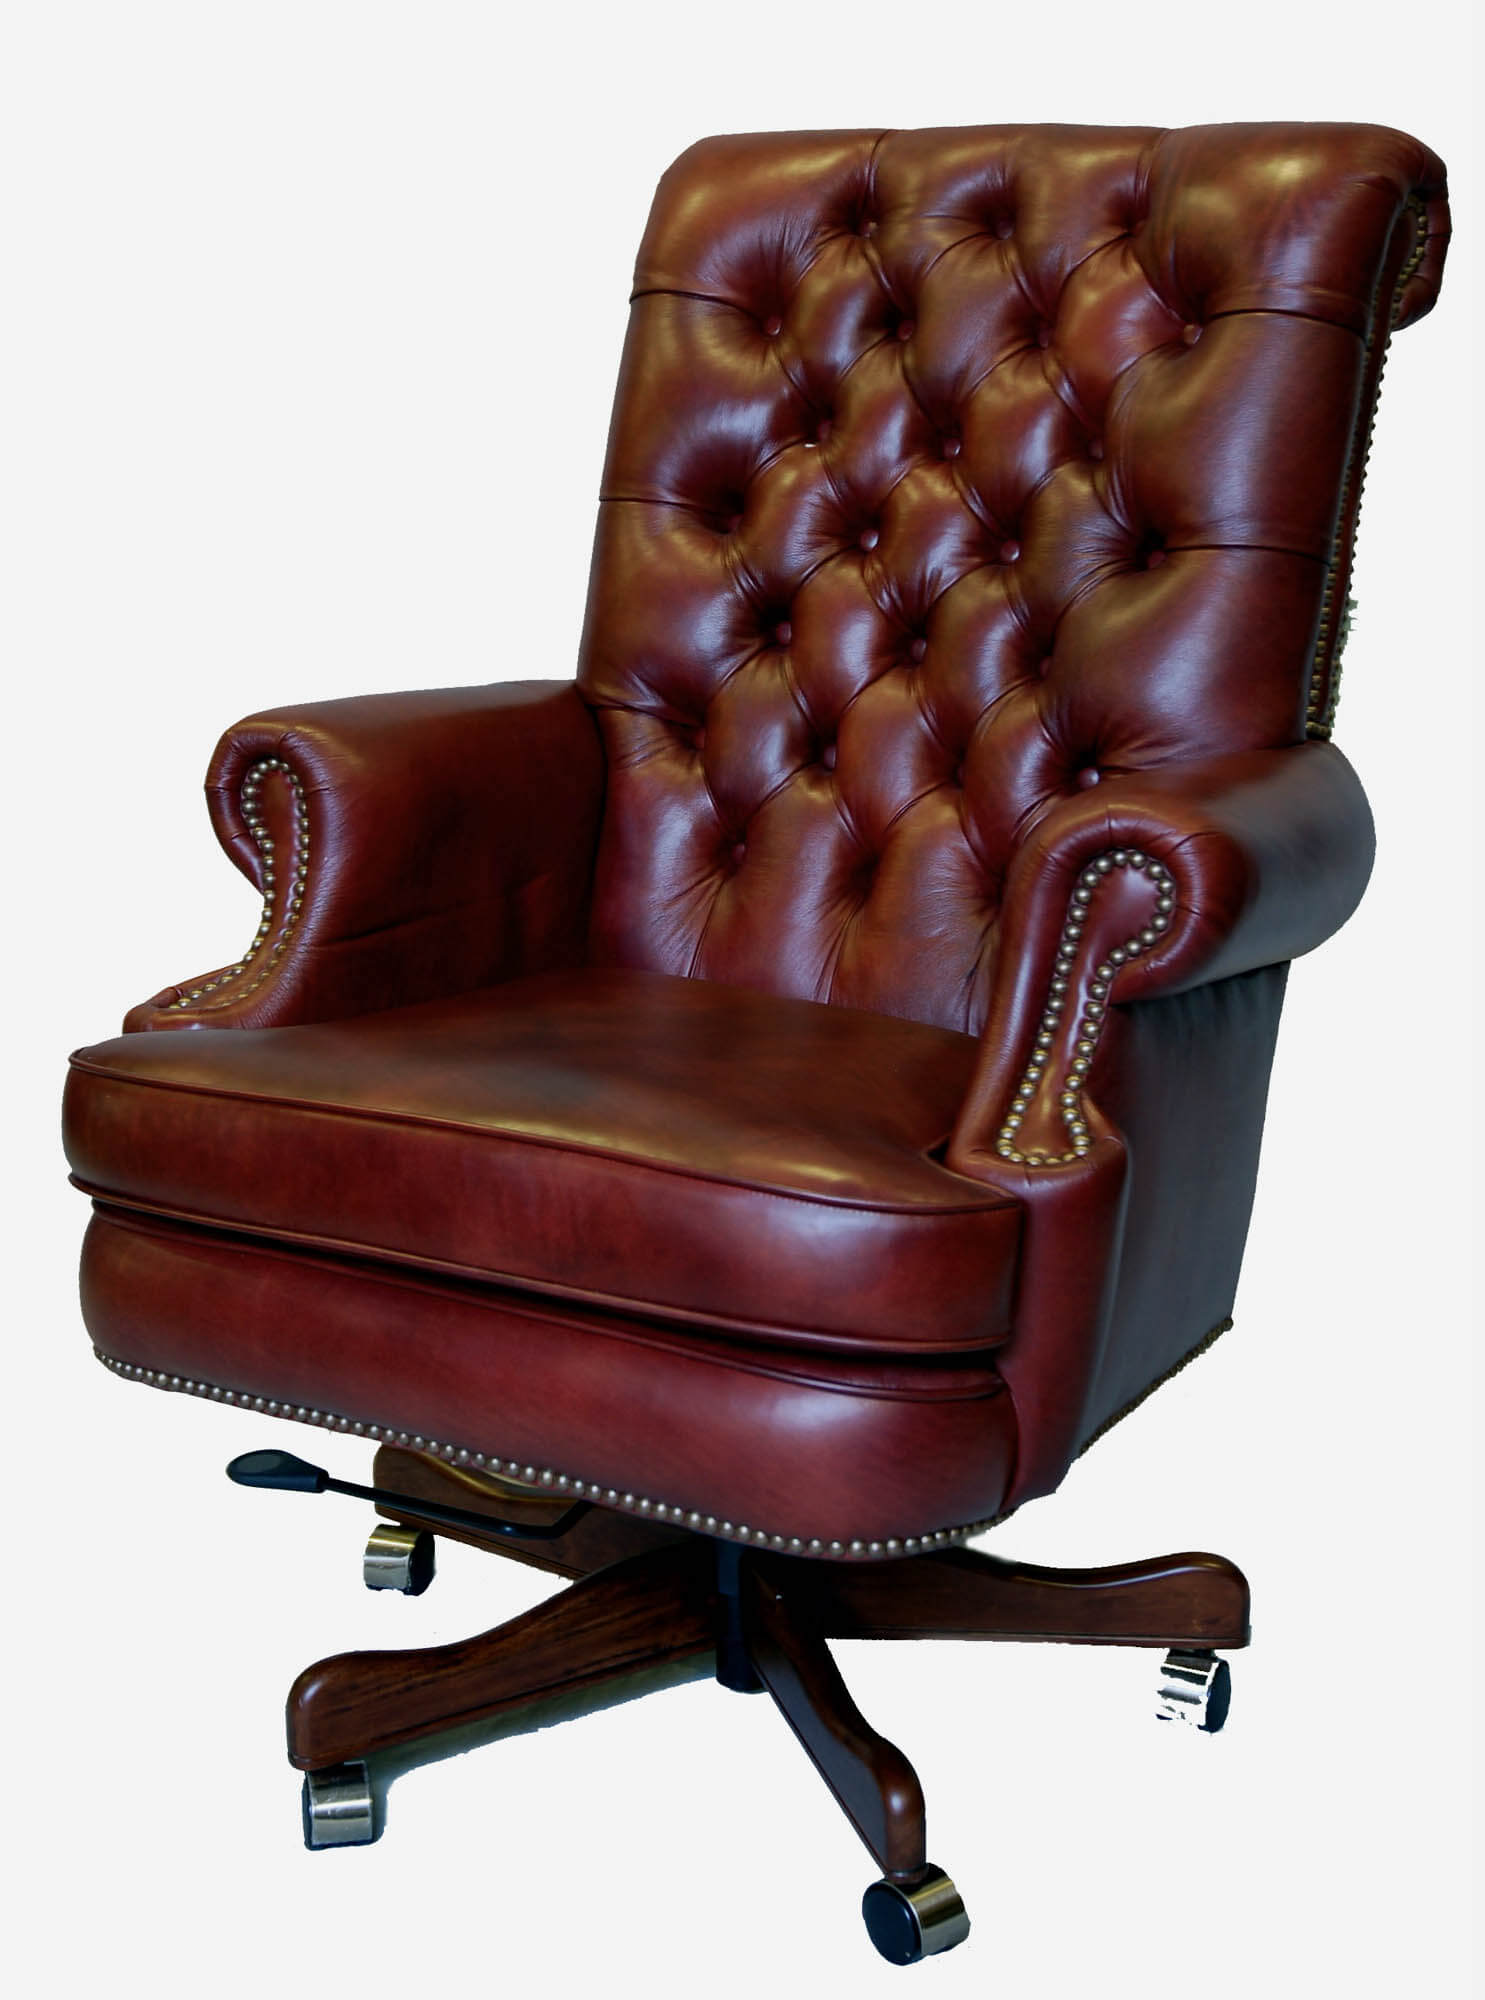chairs: (64, 122, 1452, 1973)
